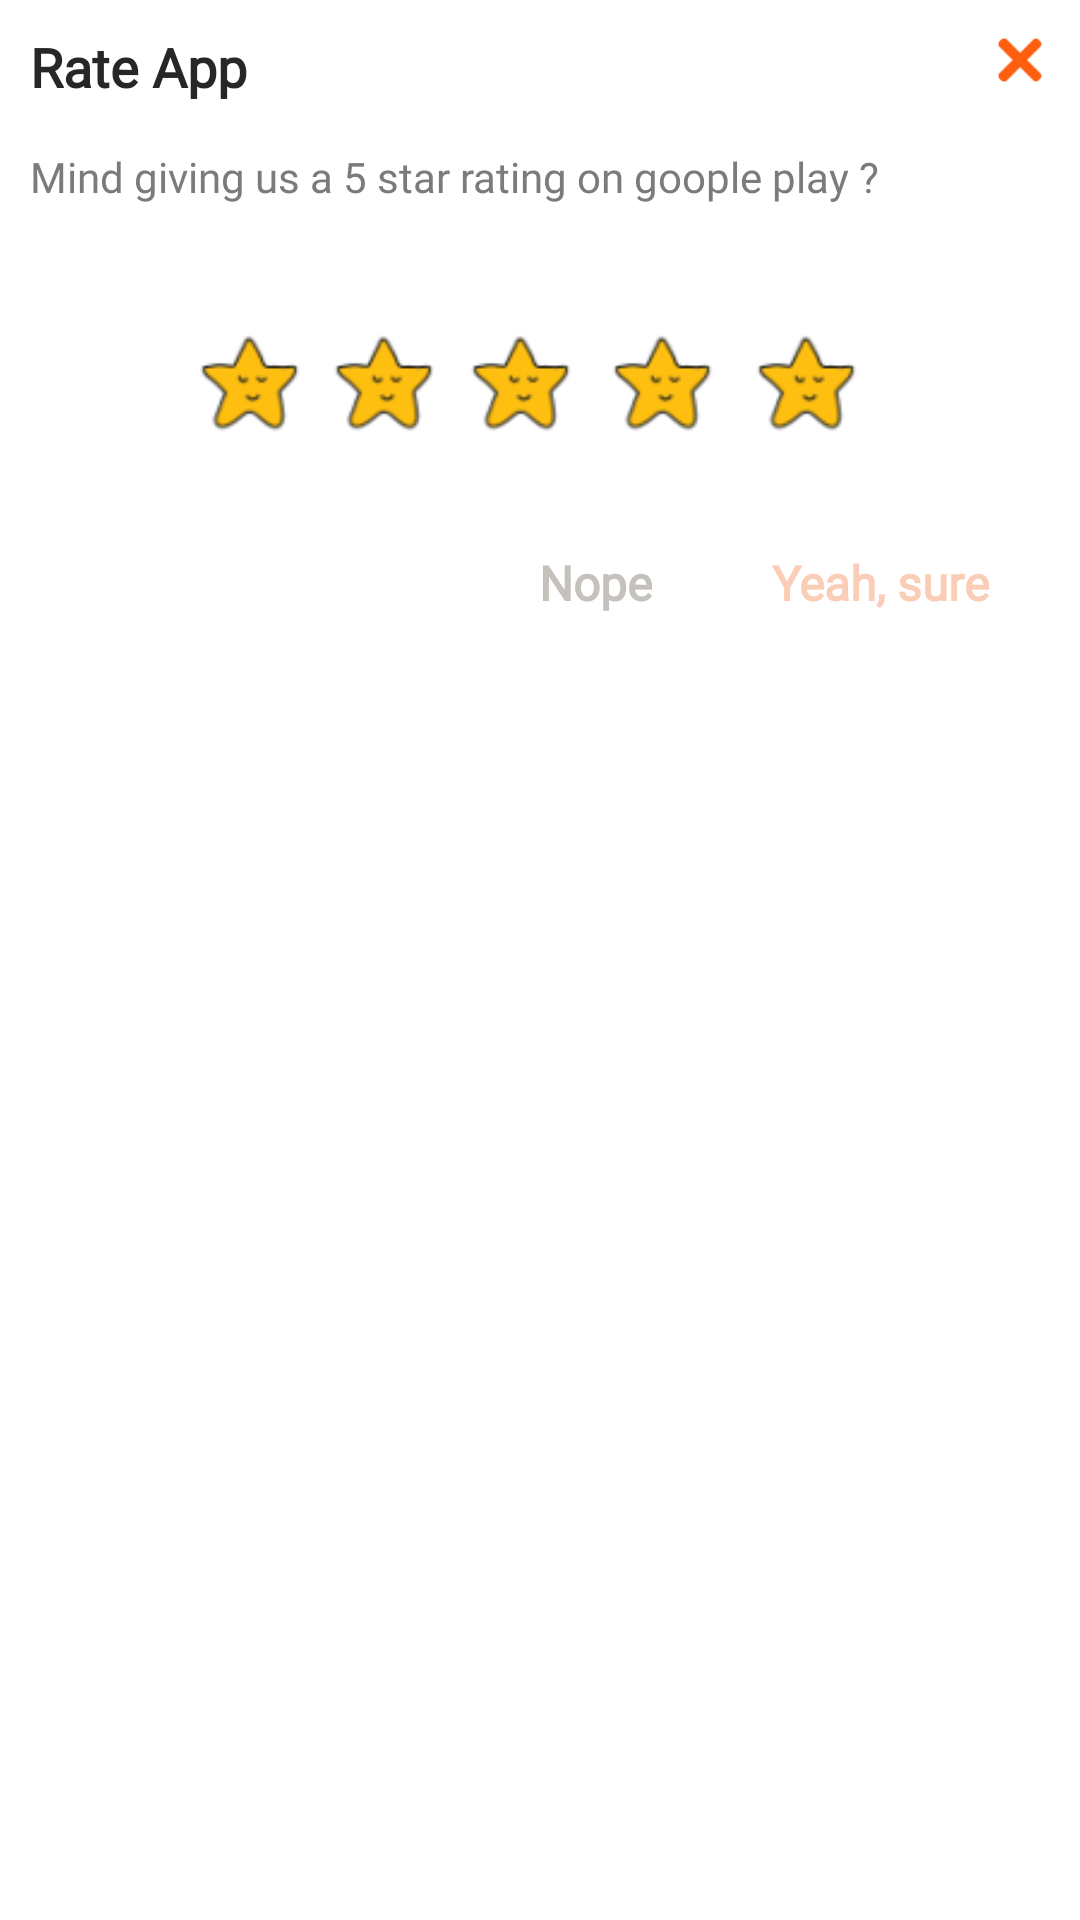

Icon bounding boxes for this 1080×1920 phone screenshot, format box=[x1, y1, x2, y2]:
close: box=[998, 38, 1042, 82]
